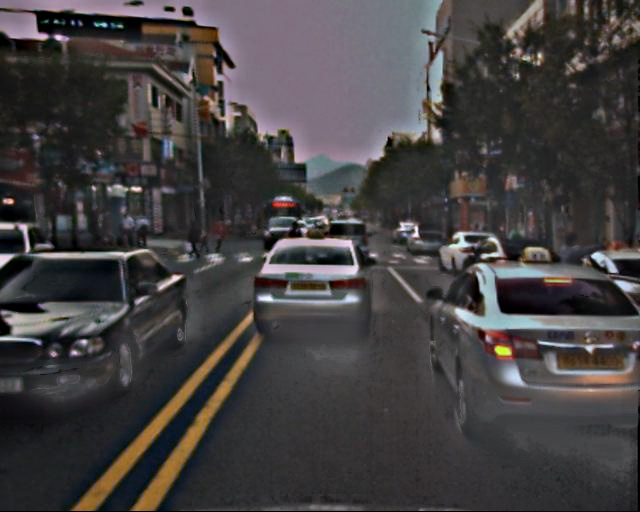person: (556, 231, 596, 328), (98, 206, 151, 244), (185, 215, 203, 260), (210, 216, 226, 254), (203, 227, 212, 249)
